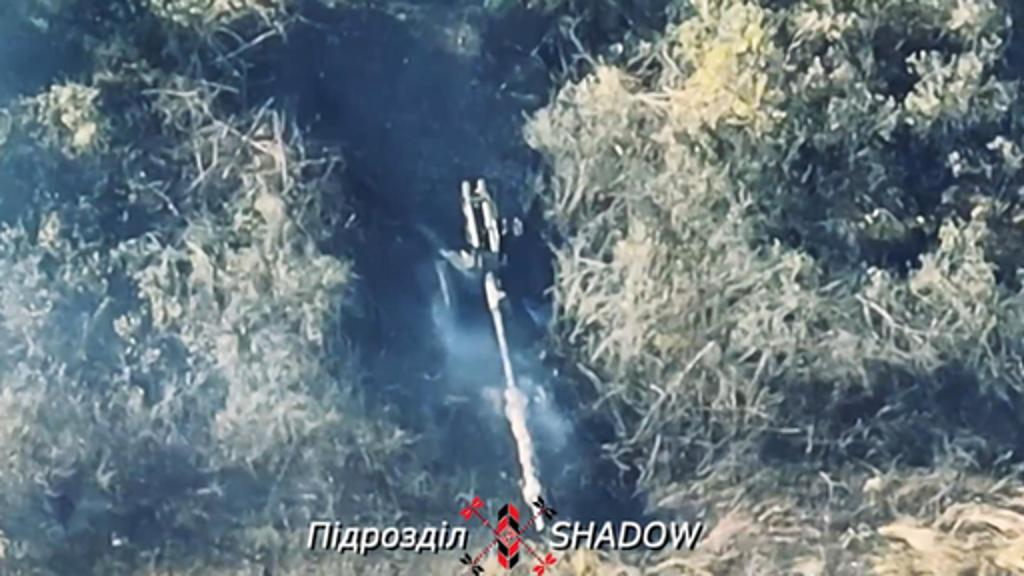ART: (432, 168, 552, 508)
